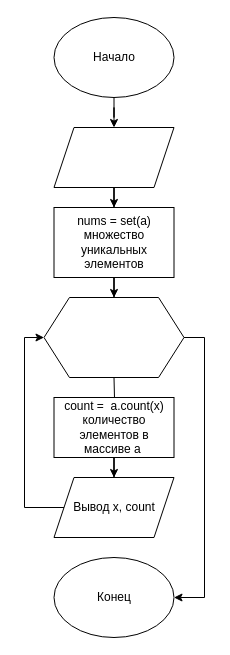
This 230x655 diagram has some shape labels left out. Each missing label, with the centre of its shape:
Ввод массива a: [113,157]
перебор x в множестве nums: [113,337]
